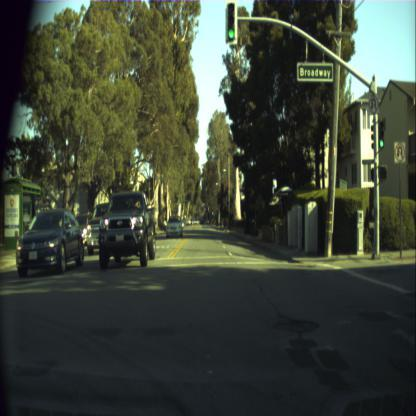Green: (228, 2, 235, 40), (378, 120, 385, 148)
